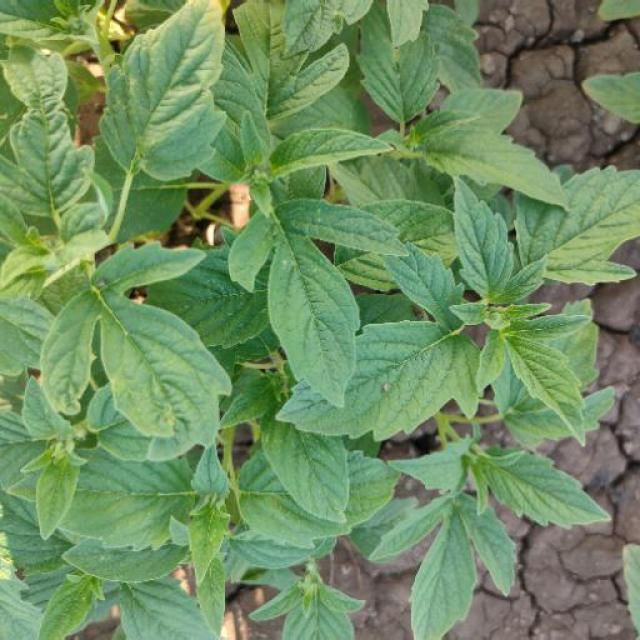crop: (16, 18, 614, 622)
